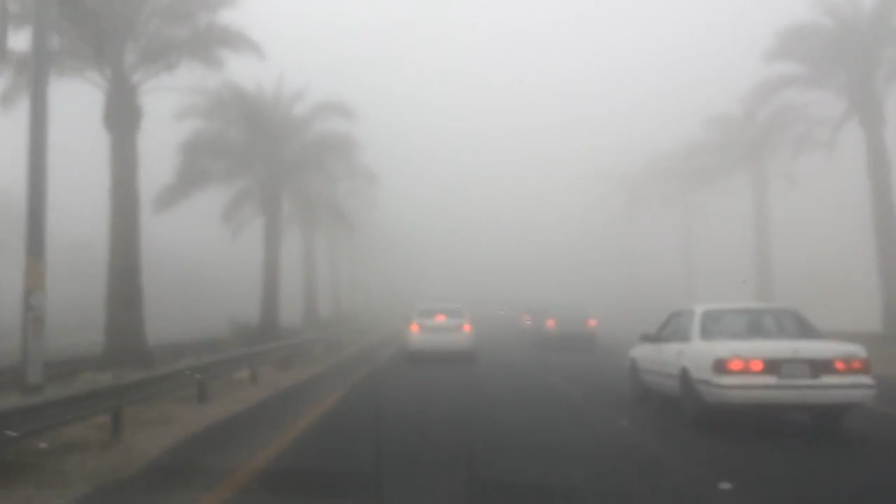car: (626, 303, 879, 425), (407, 304, 474, 357), (541, 307, 599, 350), (518, 308, 557, 336)
